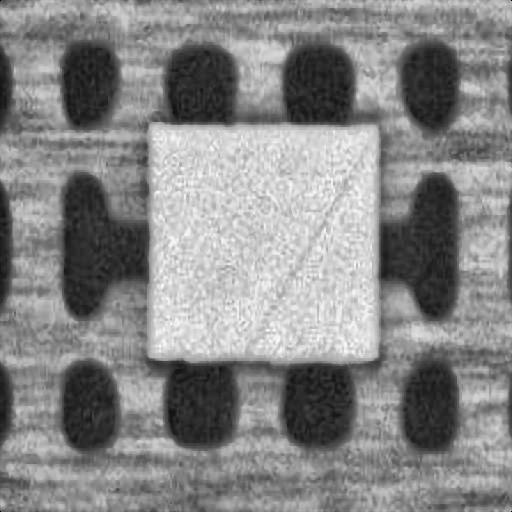DIE_CRACK: (244, 130, 374, 348)
